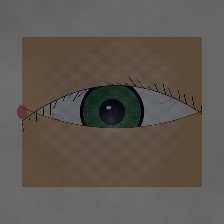pinguecula_lesion: (20, 97, 67, 134)
